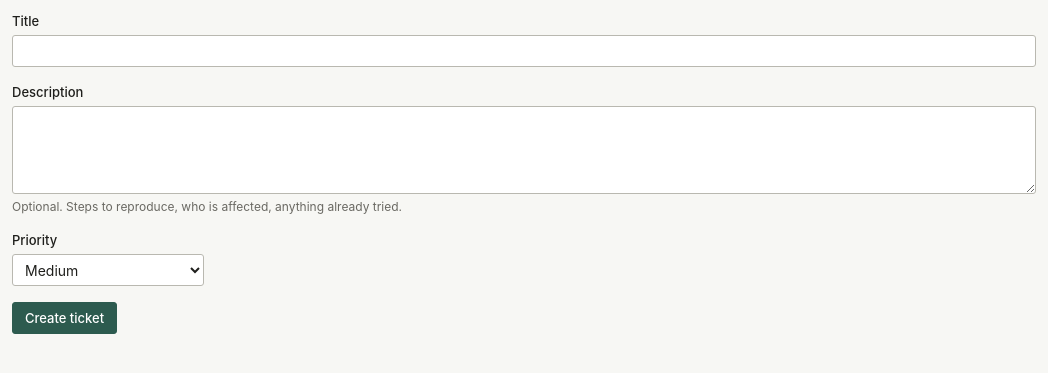
Test case: CreateTicketForm › places the API's validation errors under the matching fields
This screenshot has width=1048, height=373.
Type "Printer jammed" into the field labelled "Title" at point(524, 51), box 12,35 -> 1036,67
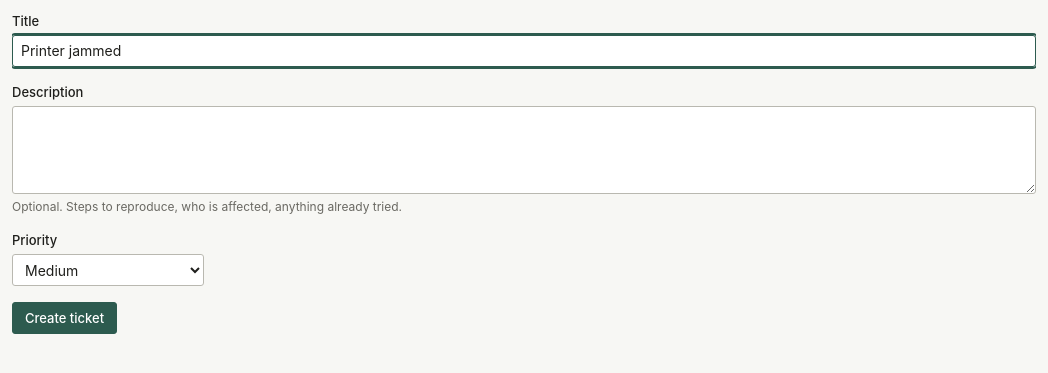
Click the button "Create ticket" at point(65, 318), box 12,302 -> 117,334
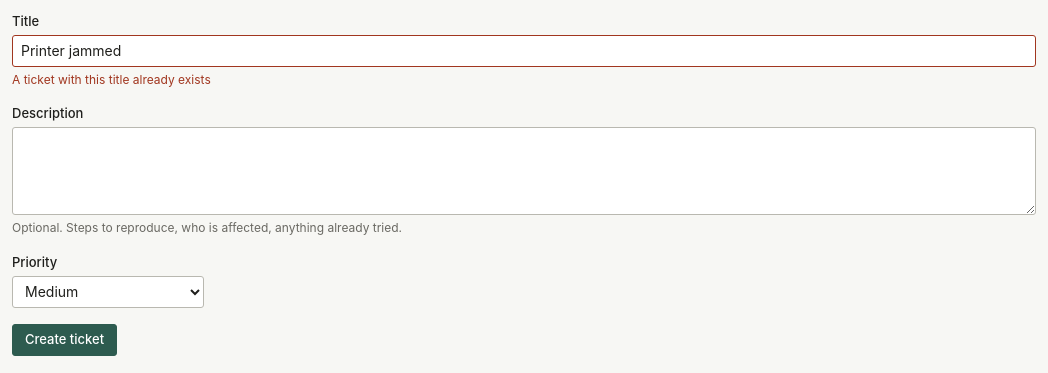
Now the text "A ticket with this title already exists" is shown, box 12,72 -> 211,87
